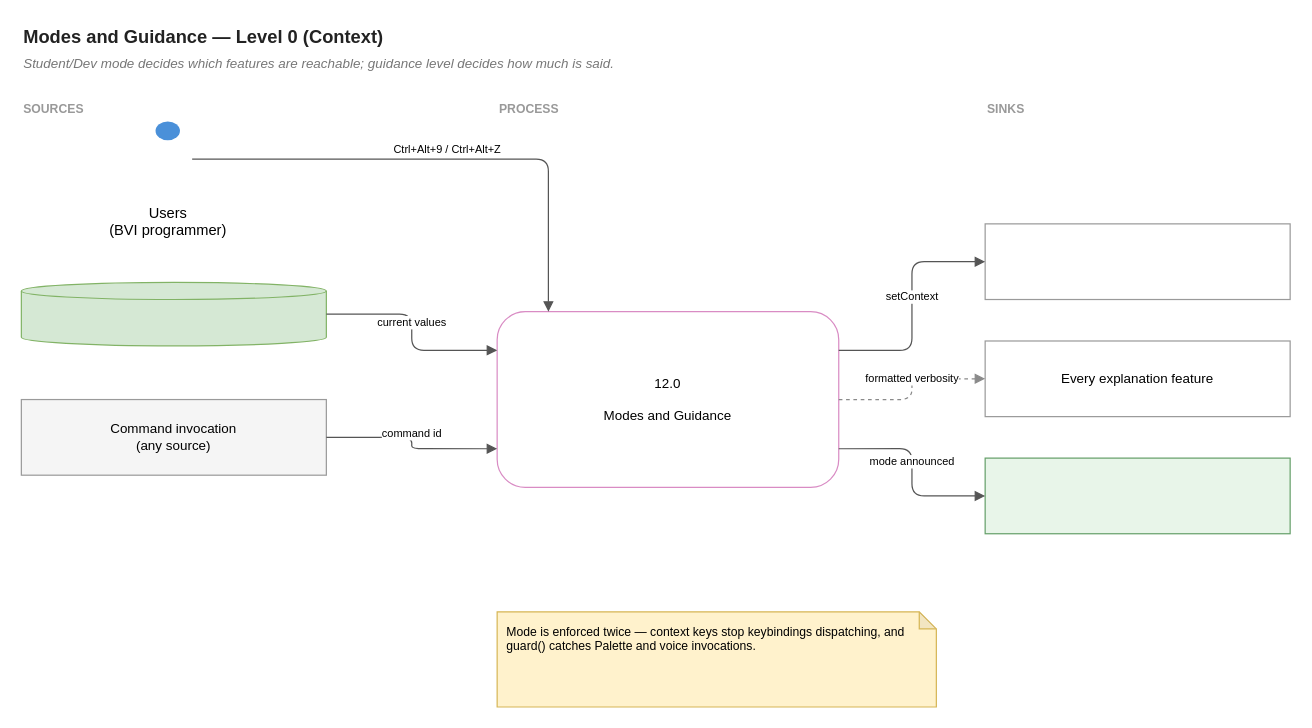
This 1312x728 diagram has some shape labels left out. Here are the shapes that lost their labels. From the top down, the box of each, then its label:
(984, 223, 1290, 300): VS Code context keys echocode:isDev / isStudent
(20, 281, 326, 346): Stored mode + guidance (settings)
(984, 457, 1290, 534): Audio ping + TTS
